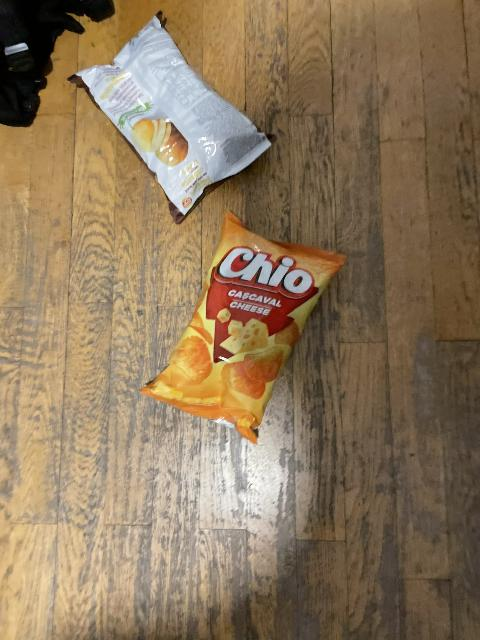Chio Cascaval 125g: (137, 212, 352, 438)
Lays Beef Grilled Ribs 125g: (71, 15, 276, 220)
